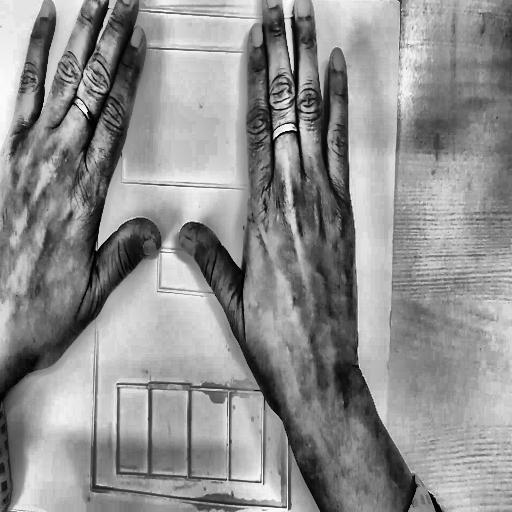door: (86, 0, 307, 512)
top_right: (399, 0, 404, 7)
